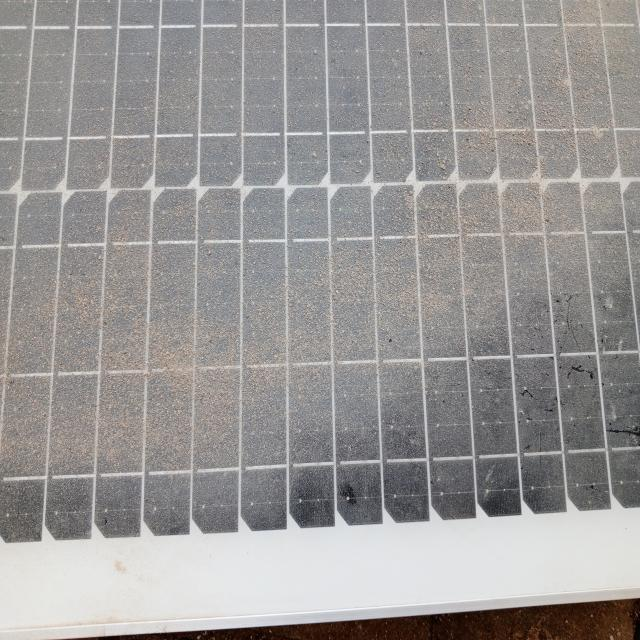Anomaly Solar Panel: (0, 0, 640, 542)
Surface Contaminant: (5, 3, 639, 533)
